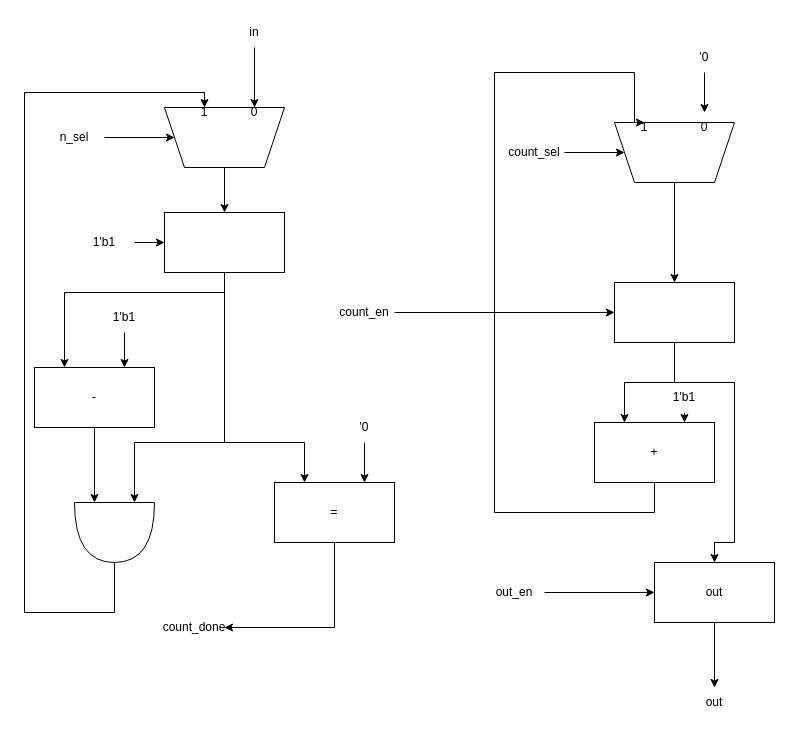
Image size: 792x734. Some labels were removed from this diagram. The box of each missing label's shape, as (x1, y1, x2, y2) in pixels:
count_r: (614, 282, 734, 342)
n_r: (164, 212, 284, 272)
